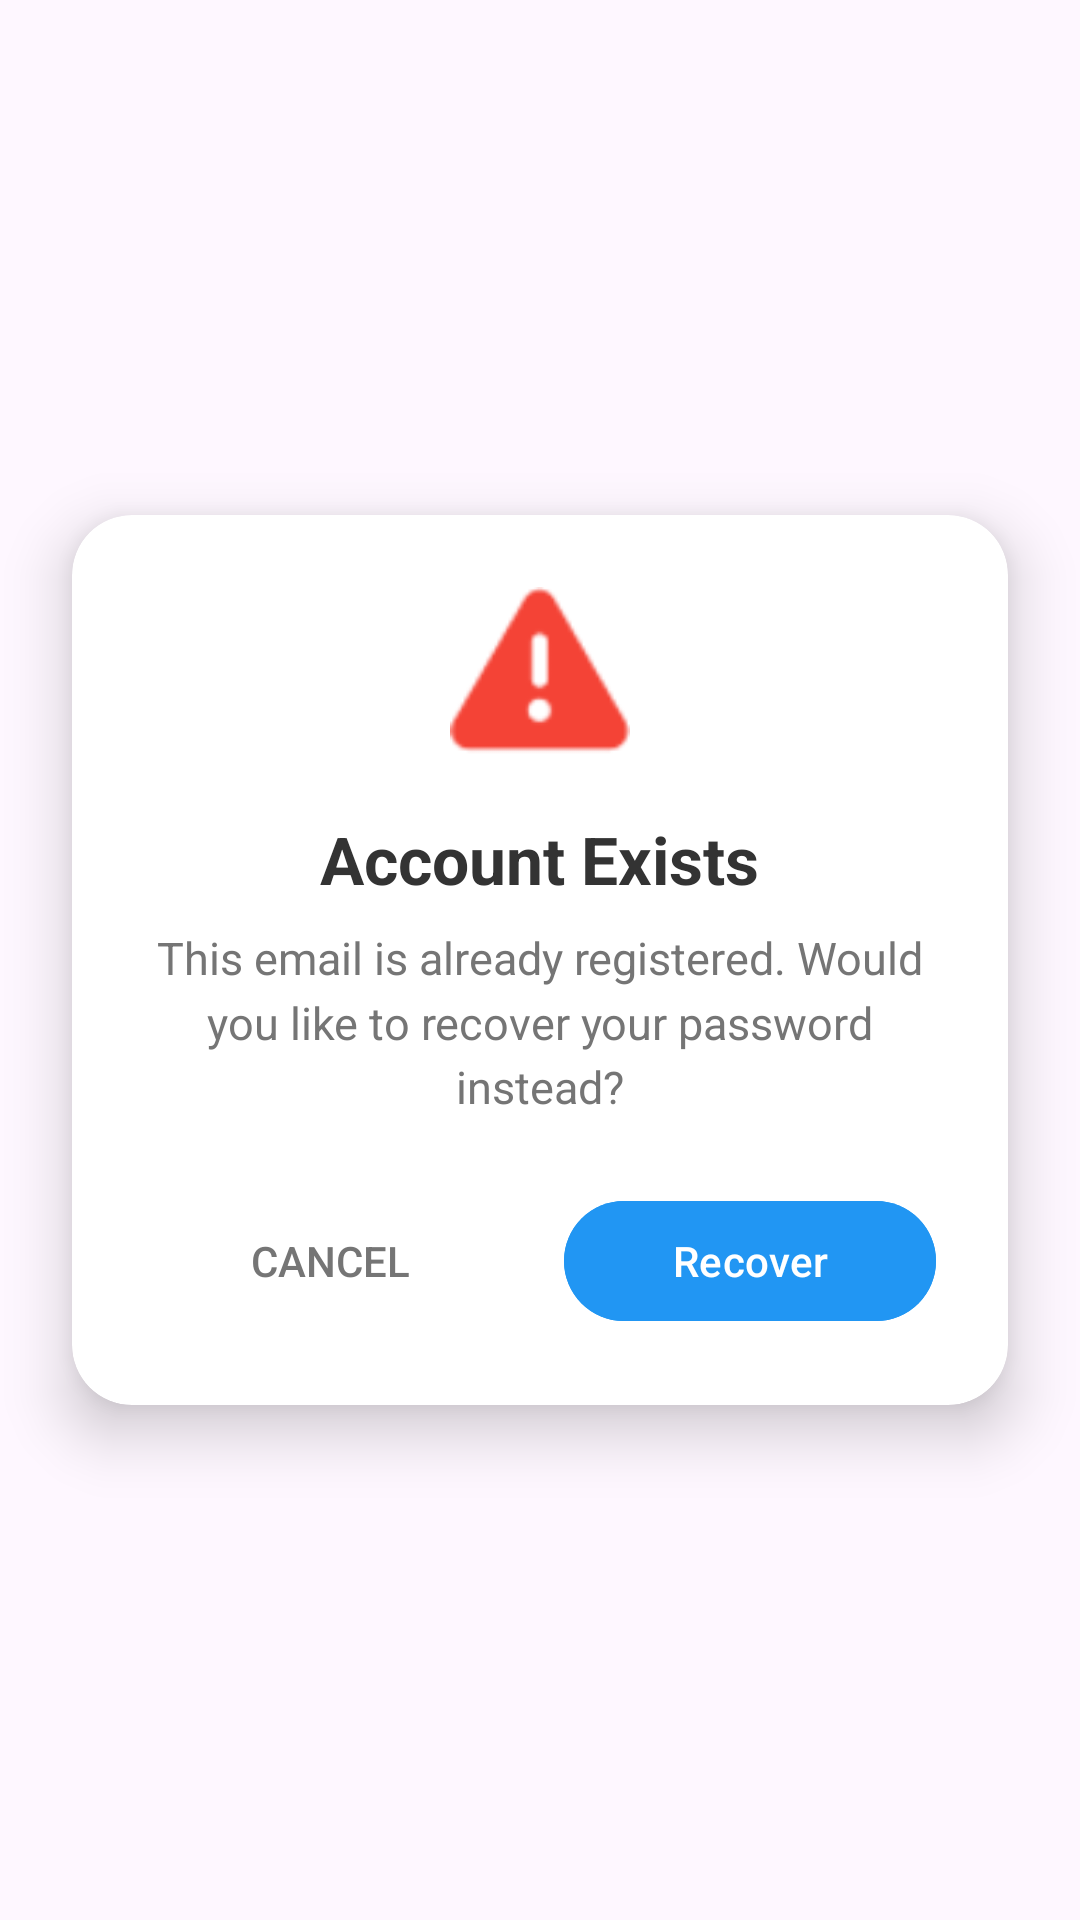

Icon bounding boxes for this 1080px x 1920px phone screenshot, format (x1, y1, x2, y2):
alert: (450, 587, 630, 751)
